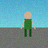person: (21, 12, 35, 36)
